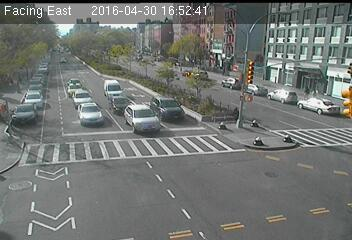neg: (68, 122, 97, 161), (172, 147, 193, 175), (168, 113, 184, 135)
